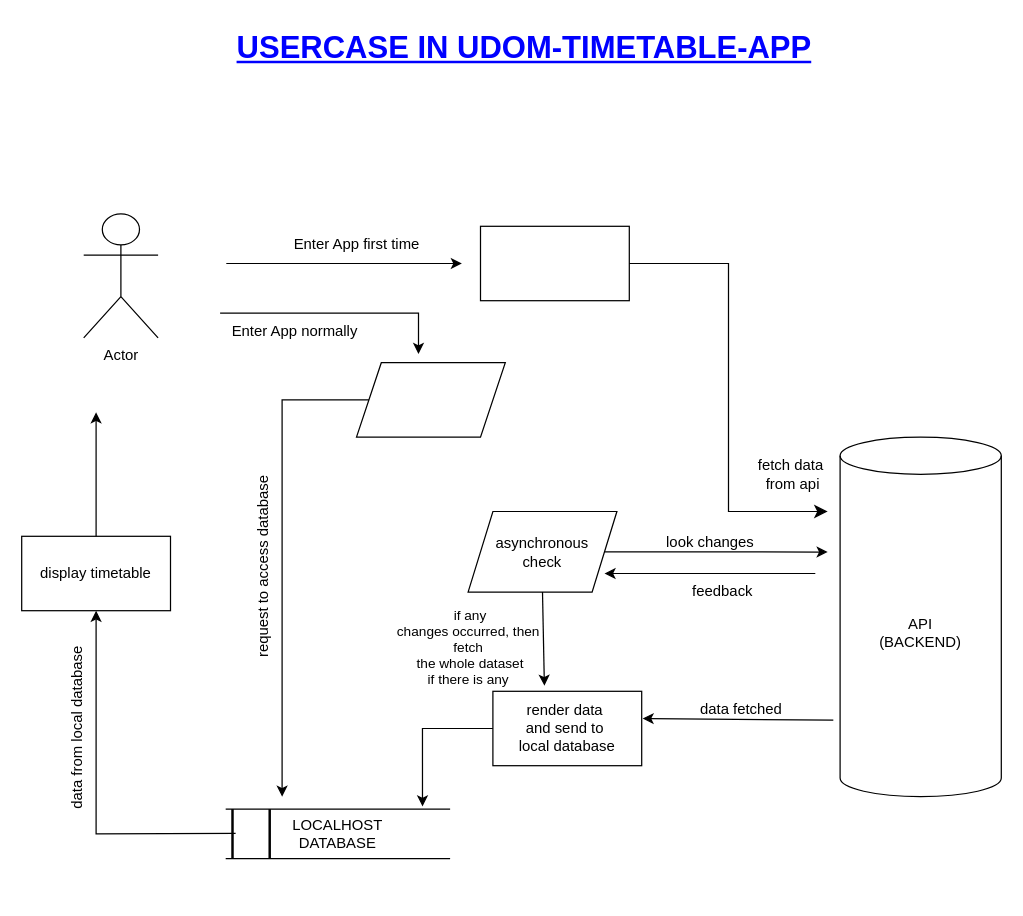
Some shapes in this 1023 by 916 pixel diagram are drawn without their labels. The centre of each missing label's shape, as x and y in pixels:
Ask about college, coarse, year: the point at 554,263
check from DB: the point at 430,399
